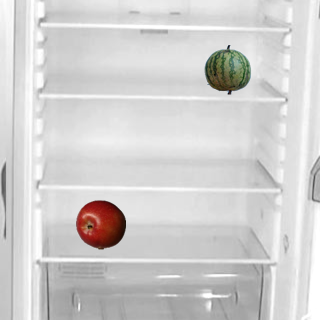Apple Braeburn: (75, 199, 125, 249)
Watermelon: (202, 44, 252, 94)
